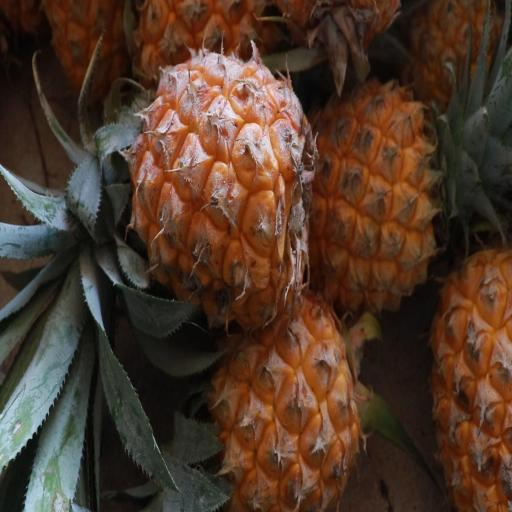Pineapple - v8 v1: (55, 38, 319, 347), (301, 64, 479, 320), (193, 287, 369, 512), (425, 238, 512, 512)
